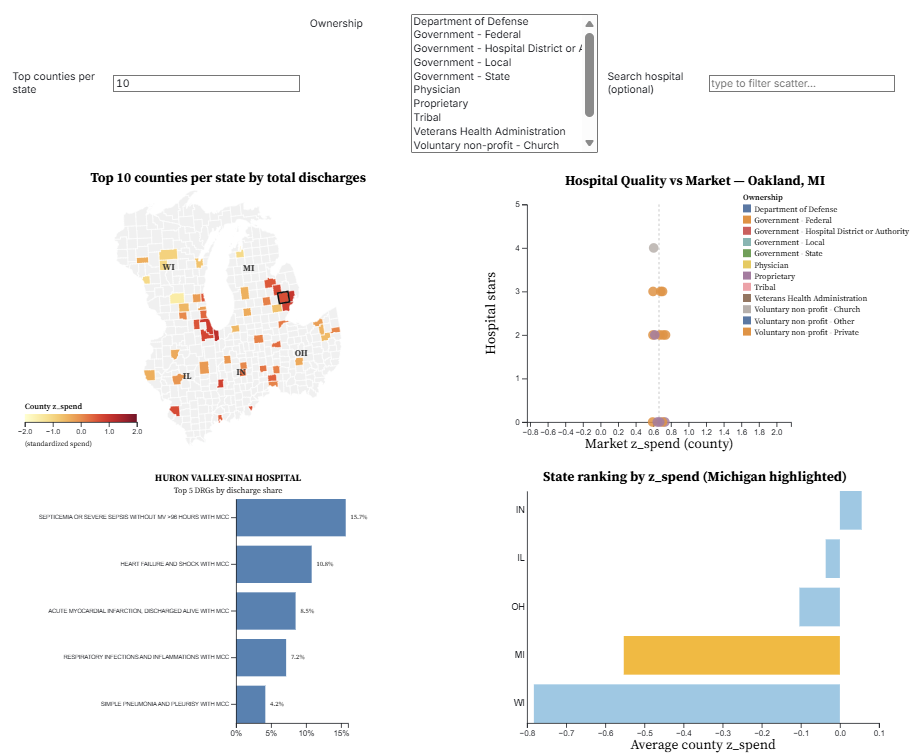

The dashboard page shown, as its layout file describes it:
{"tool":"tableau","page":{"name":"Dashboard 1","canvas":[1100,800],"ordinal":0},"visuals":[{"type":"worksheet","title":"County map","mark":"Automatic","box":[8,8,439,534]},{"type":"worksheet","title":"Hospital Quality vs Market Spend","mark":"Automatic","rows":["stars"],"cols":["z_spend"],"box":[447,8,433,534]},{"type":"filter","title":"County map","param":"[federated.1b93y071jk22lz1ba65lr1ai0hog].[none:state (counties_geo_region.json):","box":[919,8,173,197]},{"type":"legend","title":"County map","param":"[federated.1b93y071jk22lz1ba65lr1ai0hog].[avg:z_spend:qk]","box":[919,205,173,73]},{"type":"legend","title":"Hospital Quality vs Market Spend","param":"[federated.1b93y071jk22lz1ba65lr1ai0hog].[none:ownership:nk]","box":[919,278,173,219]},{"type":"worksheet","title":"Top DRGs","mark":"Automatic","rows":["drg_code"],"cols":["share"],"box":[8,542,433,250]},{"type":"worksheet","title":"State Ranking","mark":"Automatic","rows":["state"],"cols":["z_spend"],"box":[441,542,478,250]}]}

Visuals, with their boxes on the page's 1100x800 design canvas (x1, y1, x2, y2). These are canvas units, not pixel positions in the 917x754 screenshot, which may show the page scaled, cropped or inside an application window:
"County map" worksheet: x1=8, y1=8, x2=447, y2=542
"Hospital Quality vs Market Spend" worksheet: x1=447, y1=8, x2=880, y2=542
"County map" filter: x1=919, y1=8, x2=1092, y2=205
"County map" legend: x1=919, y1=205, x2=1092, y2=278
"Hospital Quality vs Market Spend" legend: x1=919, y1=278, x2=1092, y2=497
"Top DRGs" worksheet: x1=8, y1=542, x2=441, y2=792
"State Ranking" worksheet: x1=441, y1=542, x2=919, y2=792
